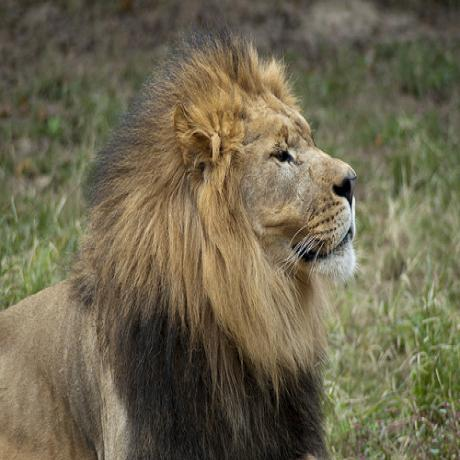Lion: (0, 35, 364, 460)
